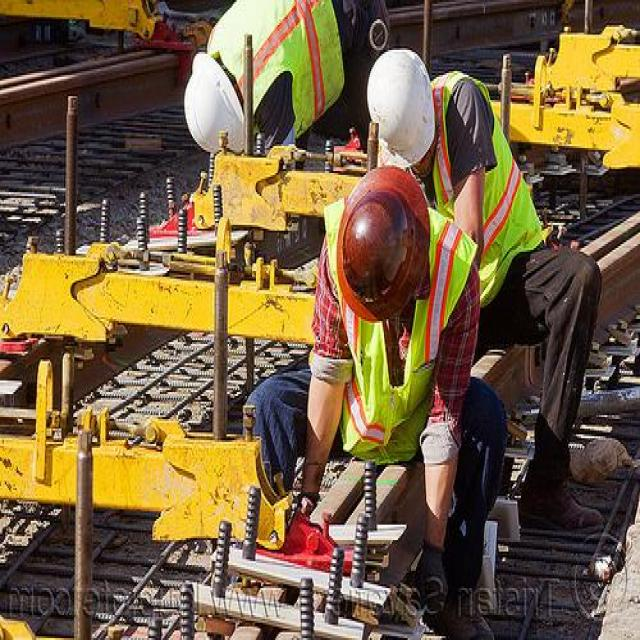Reflective-Jacket: (315, 183, 482, 463), (199, 1, 351, 146), (431, 71, 521, 308)
Safety-Helmet: (336, 161, 434, 324), (365, 42, 438, 166), (179, 52, 250, 161)
